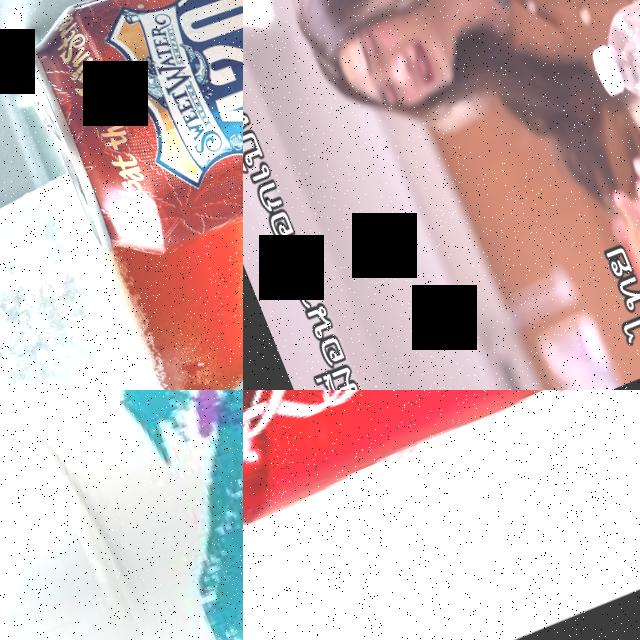bottle: (570, 0, 640, 118)
can: (243, 390, 640, 571), (8, 0, 243, 275)
cup: (0, 390, 243, 640)
